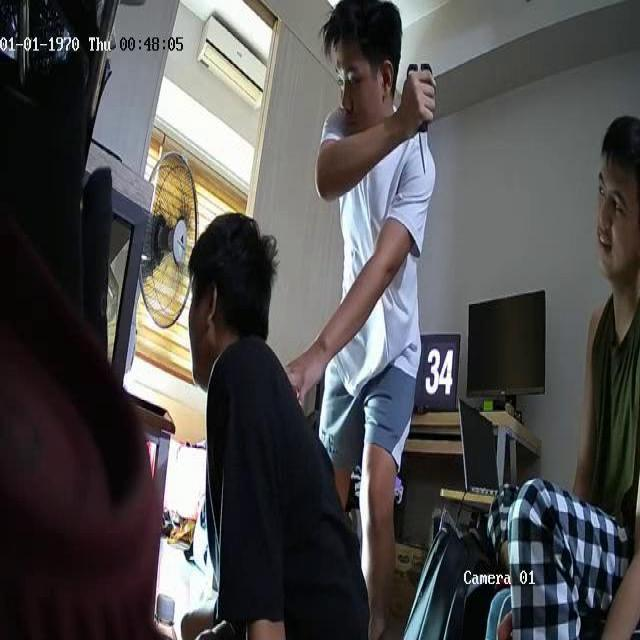scissor: (405, 62, 432, 172)
